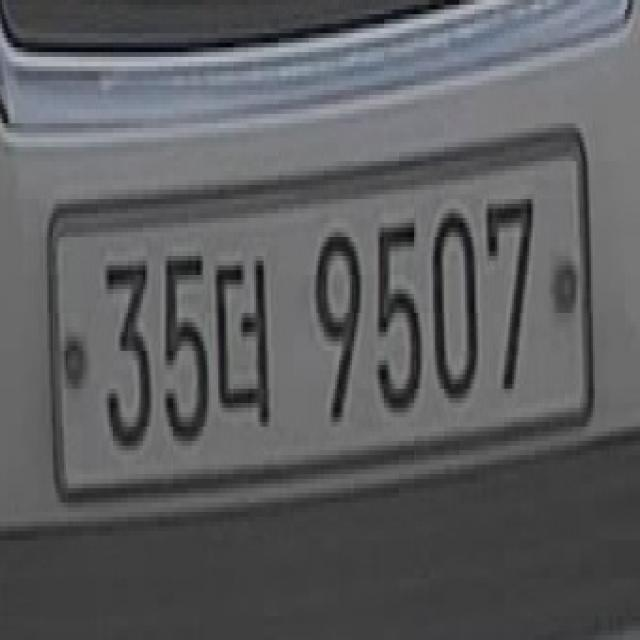0: (429, 204, 480, 403)
3: (104, 251, 152, 460)
5: (158, 247, 211, 446), (372, 213, 422, 422)
7: (484, 190, 536, 393)
9: (311, 223, 363, 427)
deo: (213, 252, 275, 432)
license_plate: (47, 128, 599, 517)
